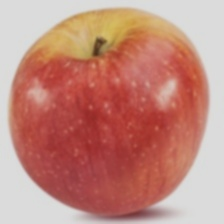apple: (45, 61, 202, 198)
